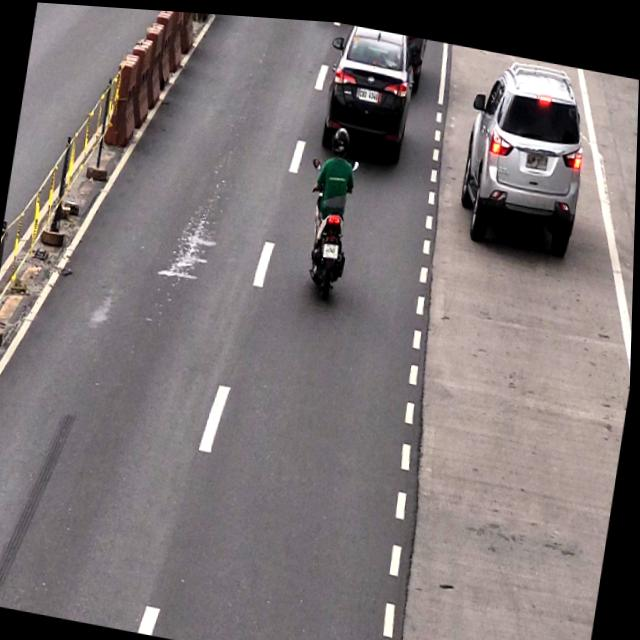Car: (456, 53, 594, 258), (321, 17, 419, 159)
License-Plate: (524, 143, 551, 166), (358, 78, 381, 100), (319, 236, 342, 257)
Motorcycle: (301, 120, 363, 309)
